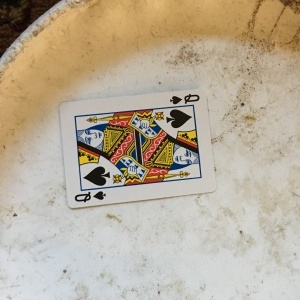card: (55, 91, 217, 209)
